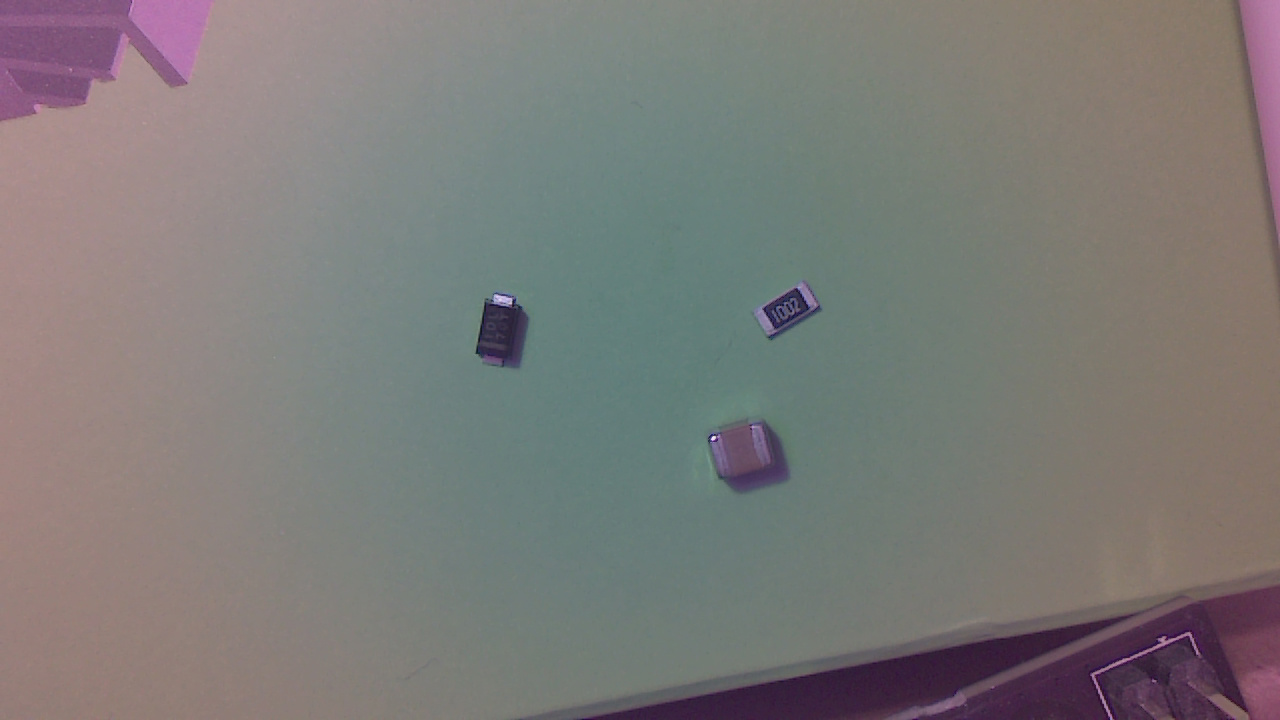Condensator: (714, 426, 781, 490)
Diode: (475, 300, 529, 372)
Resistor: (758, 286, 827, 349)
